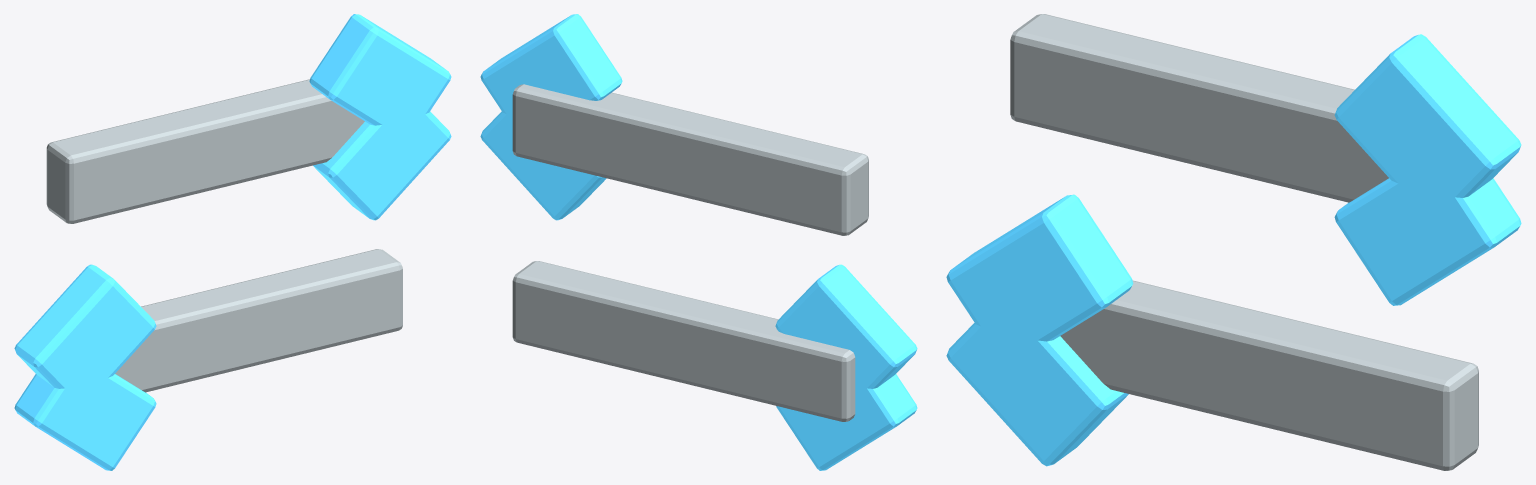
The model's file is Artifact_DSP.glb.
The picture shows the model from 3 angles, left to right: view 1: azimuth 30°, elevation 25°; view 2: azimuth 150°, elevation 25°; view 3: azimuth 330°, elevation 25°; orthographic projection. The views are drawn at different scales.
Visible parts, largest first — view 1: Artifact_DSP_Mesh; view 2: Artifact_DSP_Mesh; view 3: Artifact_DSP_Mesh.
Boxes of the visible parts, <box> form: Artifact_DSP_Mesh: <box>14,14,451,470</box>; Artifact_DSP_Mesh: <box>480,14,917,470</box>; Artifact_DSP_Mesh: <box>946,14,1521,470</box>.
Size of the model in its own units: 0.4459 by 0.3868 by 0.06.
